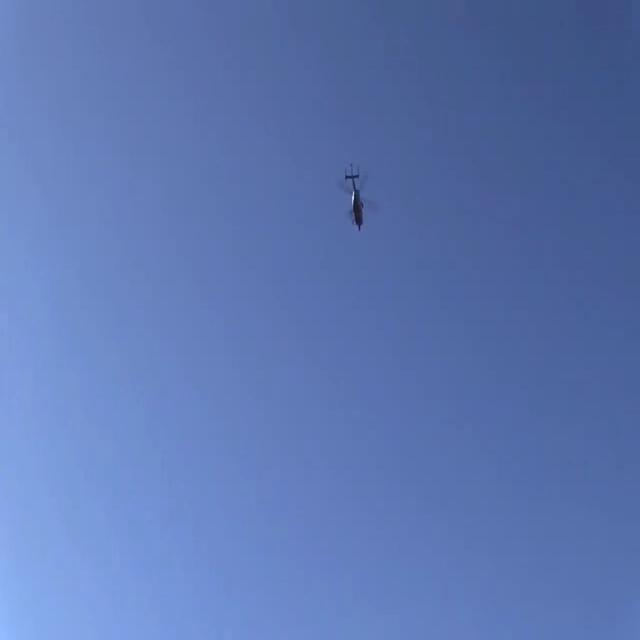Helicopter: (329, 156, 385, 238)
